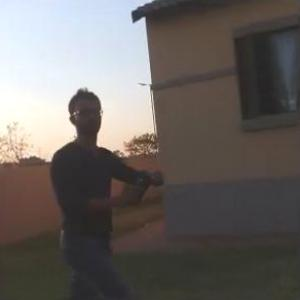follow: (47, 75, 171, 299)
